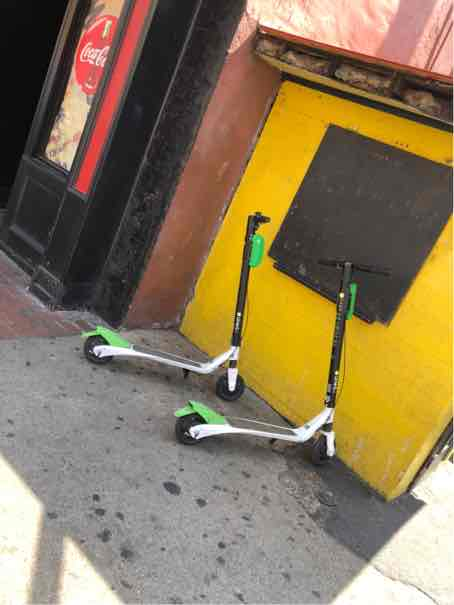scooter: (185, 213, 346, 458), (72, 203, 256, 411)
